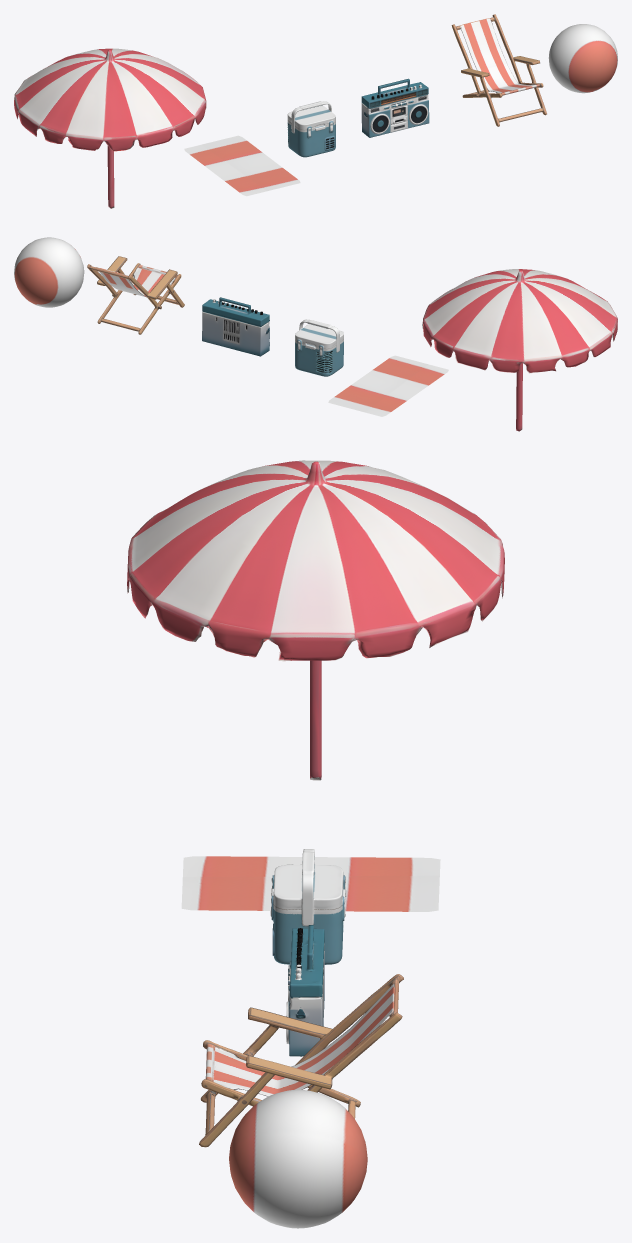
Rendered from beach_kit.glb.
The picture shows the model from 3 angles, top to bottom: view 1: azimuth 30°, elevation 25°; view 2: azimuth 150°, elevation 25°; view 3: azimuth 270°, elevation 25°; orthographic projection. The views are drawn at different scales.
Parts seen in each view (by area): view 1: Beach umbrella, Beach chair, Beach ball, Beach towel, Beach boombox, Coolbox; view 2: Beach umbrella, Beach ball, Beach towel, Beach boombox, Beach chair, Coolbox; view 3: Beach umbrella, Beach ball, Beach chair, Beach towel, Coolbox, Beach boombox.
Part boxes in pixels (x1,y1,x2,y2): Beach umbrella: [14, 48, 206, 208]; Beach chair: [451, 14, 546, 126]; Beach ball: [548, 24, 617, 93]; Beach towel: [184, 135, 300, 196]; Beach boombox: [361, 78, 429, 137]; Coolbox: [287, 101, 335, 157]; Beach umbrella: [422, 269, 617, 431]; Beach ball: [14, 237, 84, 307]; Beach towel: [328, 355, 448, 416]; Beach boombox: [202, 297, 269, 356]; Beach chair: [87, 256, 184, 334]; Coolbox: [295, 319, 343, 376]; Beach umbrella: [127, 460, 504, 780]; Beach ball: [229, 1089, 367, 1228]; Beach chair: [199, 974, 403, 1147]; Beach towel: [181, 856, 440, 911]; Coolbox: [270, 849, 346, 964]; Beach boombox: [286, 925, 324, 1056].
Size of the model in its own units: 12.48 by 3.24 by 3.51.
4 materials, 4 textured.
